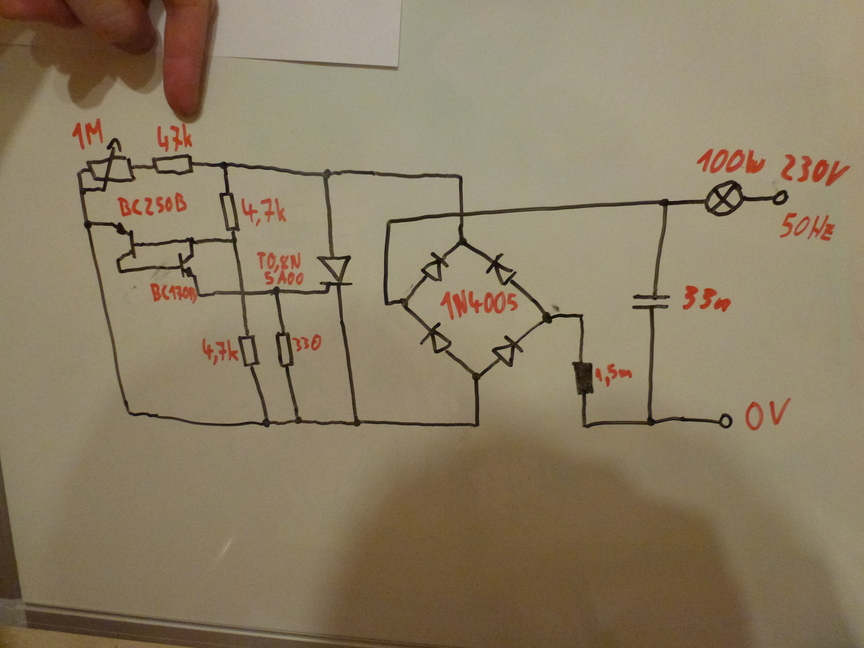capacitor.unpolarized: (629, 282, 676, 323)
crossover: (233, 285, 251, 300), (454, 207, 468, 220)
diode: (481, 251, 521, 288), (489, 332, 527, 370), (417, 320, 455, 358), (419, 249, 452, 286)
inductor: (567, 355, 597, 401)
junction: (258, 415, 277, 433), (655, 193, 673, 211), (538, 309, 555, 327), (318, 165, 335, 182), (348, 416, 365, 432), (78, 217, 97, 231), (290, 413, 306, 429), (467, 369, 484, 384), (216, 158, 233, 173), (640, 414, 658, 428), (454, 234, 470, 249), (382, 215, 398, 230), (469, 418, 485, 433), (453, 170, 468, 185), (397, 294, 411, 309), (122, 407, 138, 420), (186, 232, 199, 247), (270, 284, 283, 298), (577, 419, 592, 431), (573, 310, 588, 322), (228, 234, 241, 247), (76, 184, 89, 197), (74, 166, 84, 179), (382, 297, 392, 309), (114, 267, 125, 277), (194, 288, 204, 299)
lamp: (702, 179, 748, 219)
resistor: (146, 153, 202, 178), (213, 187, 242, 234), (235, 329, 264, 372), (272, 328, 295, 370)
resistor.adjustable: (86, 137, 136, 195)
terminal: (766, 188, 793, 207), (713, 411, 735, 431)
text: (438, 287, 522, 322), (778, 150, 851, 189), (694, 144, 767, 177), (254, 249, 309, 288), (678, 281, 735, 318), (114, 191, 190, 218), (739, 396, 794, 433), (777, 209, 836, 243), (239, 194, 291, 228), (69, 114, 106, 152), (154, 121, 195, 154), (198, 335, 239, 368), (147, 280, 198, 305), (594, 362, 634, 388), (291, 333, 324, 353)
thyristor: (312, 249, 357, 299)
transistor: (108, 220, 144, 264), (175, 250, 202, 281)
